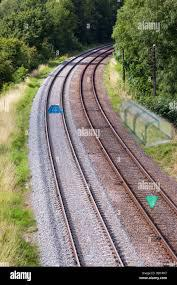Color_steel: (44, 101, 64, 121)
Dust_screen: (144, 189, 159, 213)
